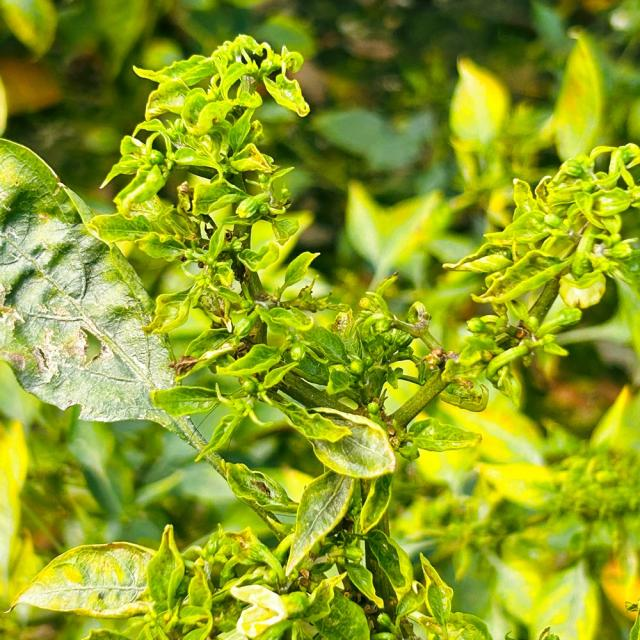Chilli_Leaf_Curl: (1, 27, 638, 637), (0, 136, 214, 455), (441, 140, 639, 402), (4, 540, 160, 620), (282, 468, 356, 578), (305, 407, 397, 479)
